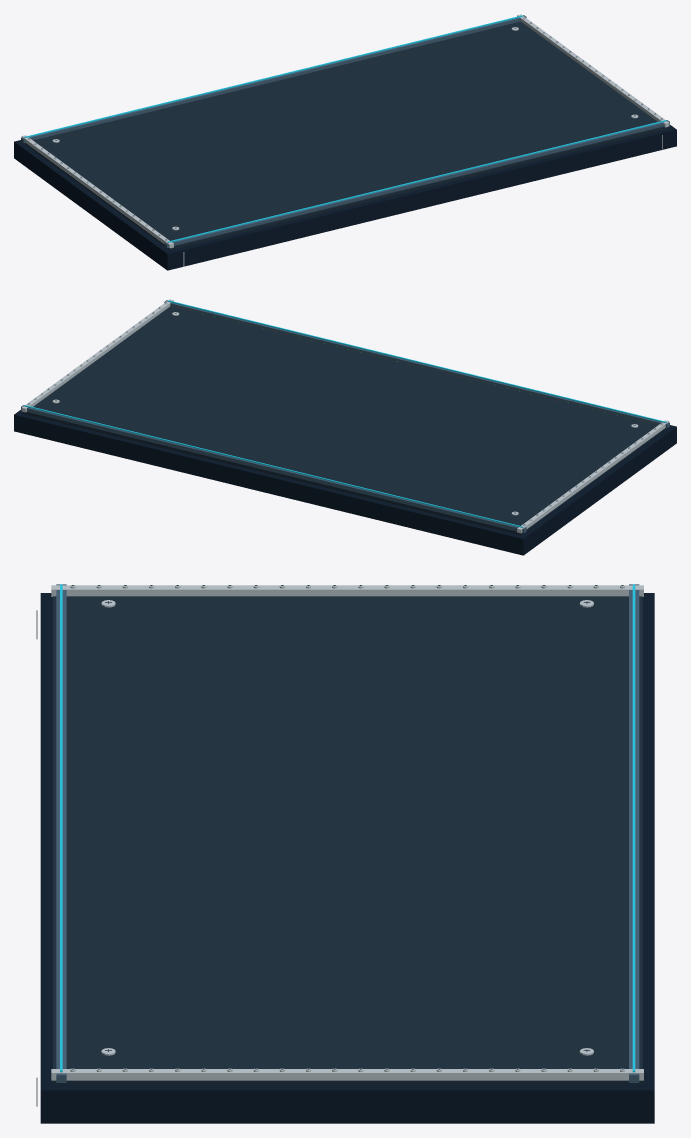
The model's file is 00_L74_IndustrialLithographyWorkstationBase.fbx.
3 renders of one model, top to bottom at view 1: azimuth 30°, elevation 25°; view 2: azimuth 150°, elevation 25°; view 3: azimuth 270°, elevation 25°, orthographic. The views are drawn at different scales.
Visible parts, largest first — view 1: IndustrialLithographyWorkstationBase; view 2: IndustrialLithographyWorkstationBase; view 3: IndustrialLithographyWorkstationBase.
Part boxes in pixels (x1=…): IndustrialLithographyWorkstationBase: x1=14, y1=14, x2=676, y2=270; IndustrialLithographyWorkstationBase: x1=14, y1=299, x2=676, y2=555; IndustrialLithographyWorkstationBase: x1=36, y1=584, x2=654, y2=1123.
Bounding box in the file's own units: 1820 × 106 × 957.
